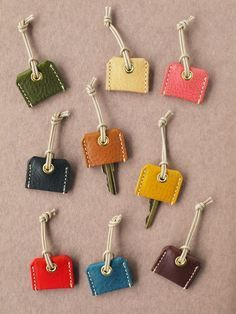cuero: (16, 57, 208, 297)
